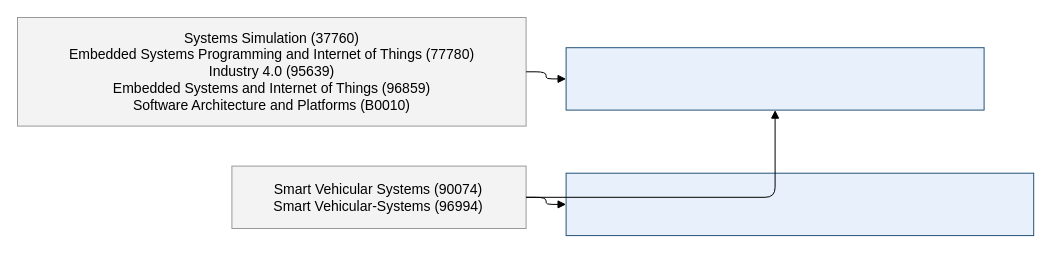
Some shapes in this 1052 by 254 pixel diagram are drawn without their labels. The shapes that lost their labels are listed below. From the top down, each one's centre as x and y in pixels, then its label:
point 774,78: Vehicular, Connected, and Digital-Twin Foundations 6 ECTS
point 799,204: Autonomous Vehicular Perception, Control, and Simulation 3 ECTS
